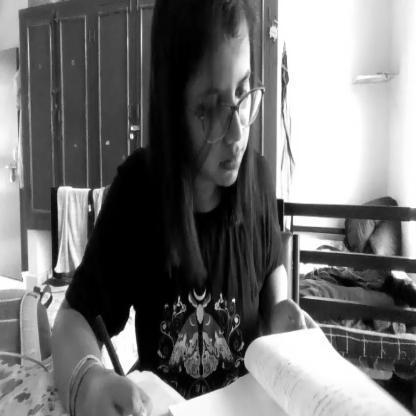Distracted: (153, 0, 258, 200)
